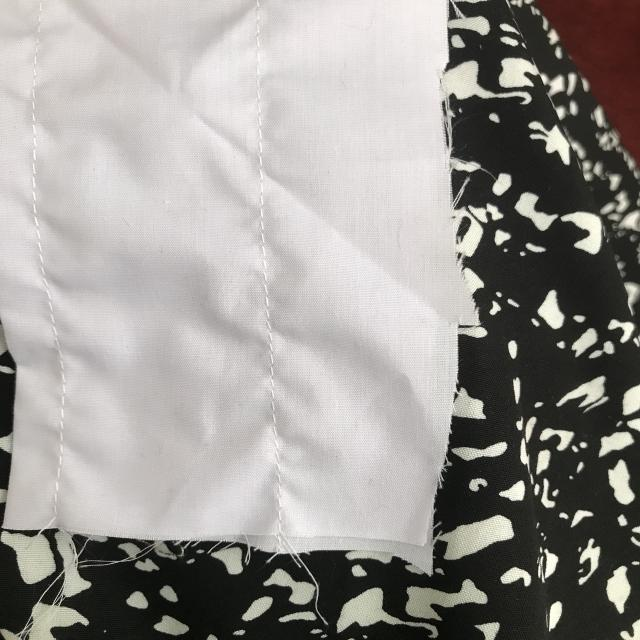good: (256, 294, 293, 409), (28, 212, 56, 315), (49, 381, 74, 476)
